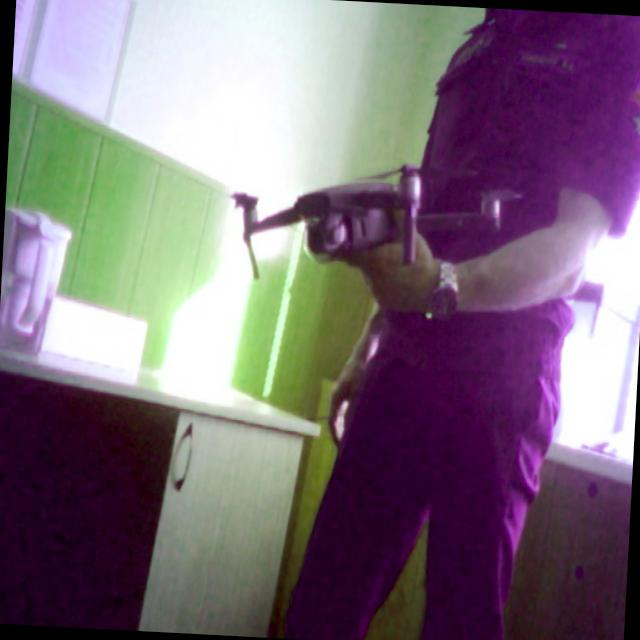drone: (213, 144, 538, 303)
